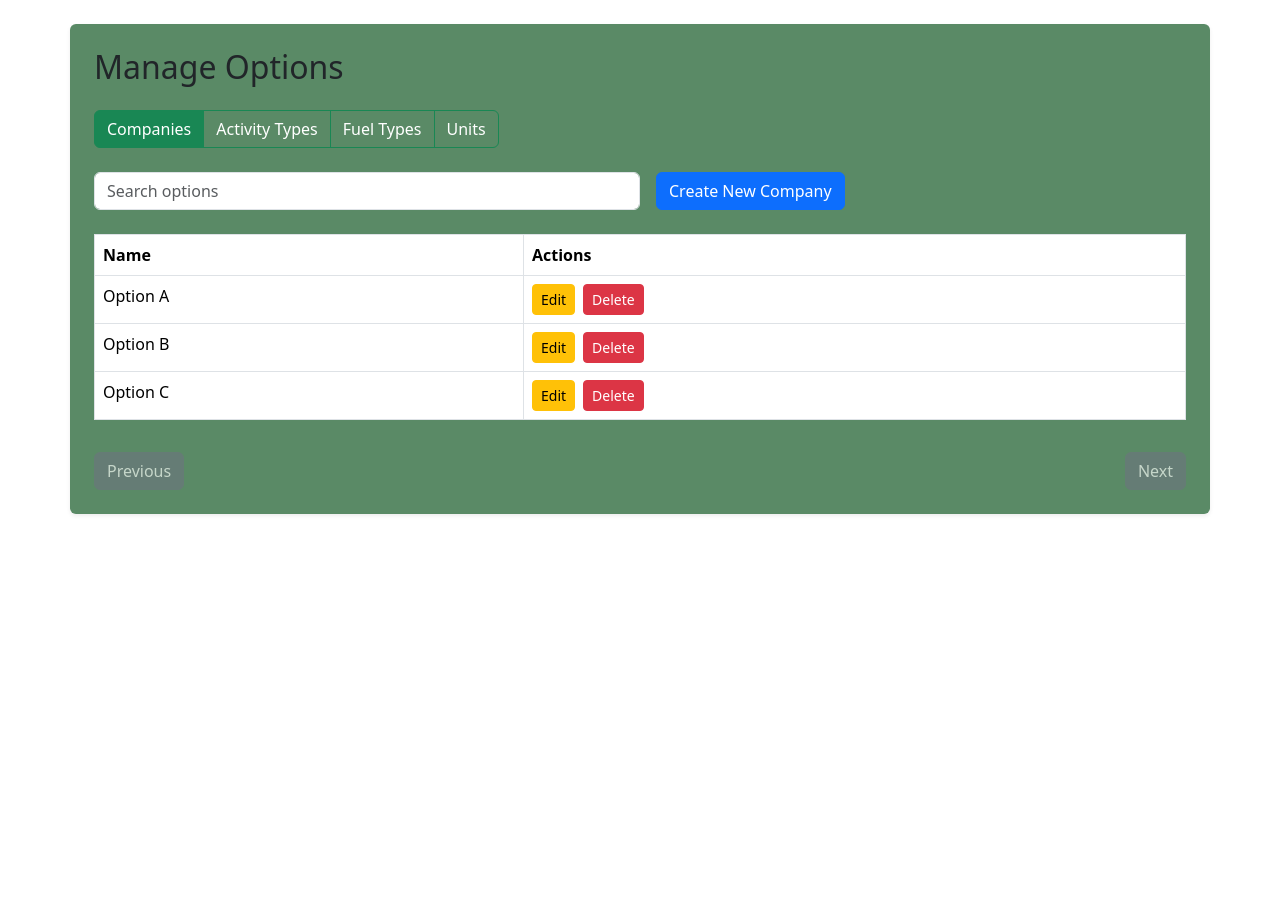
Test: ManageOptions Component › opens form to create a new option
Step 1. Click the button "Create New Company" → (750, 191), box [656, 172, 845, 210]
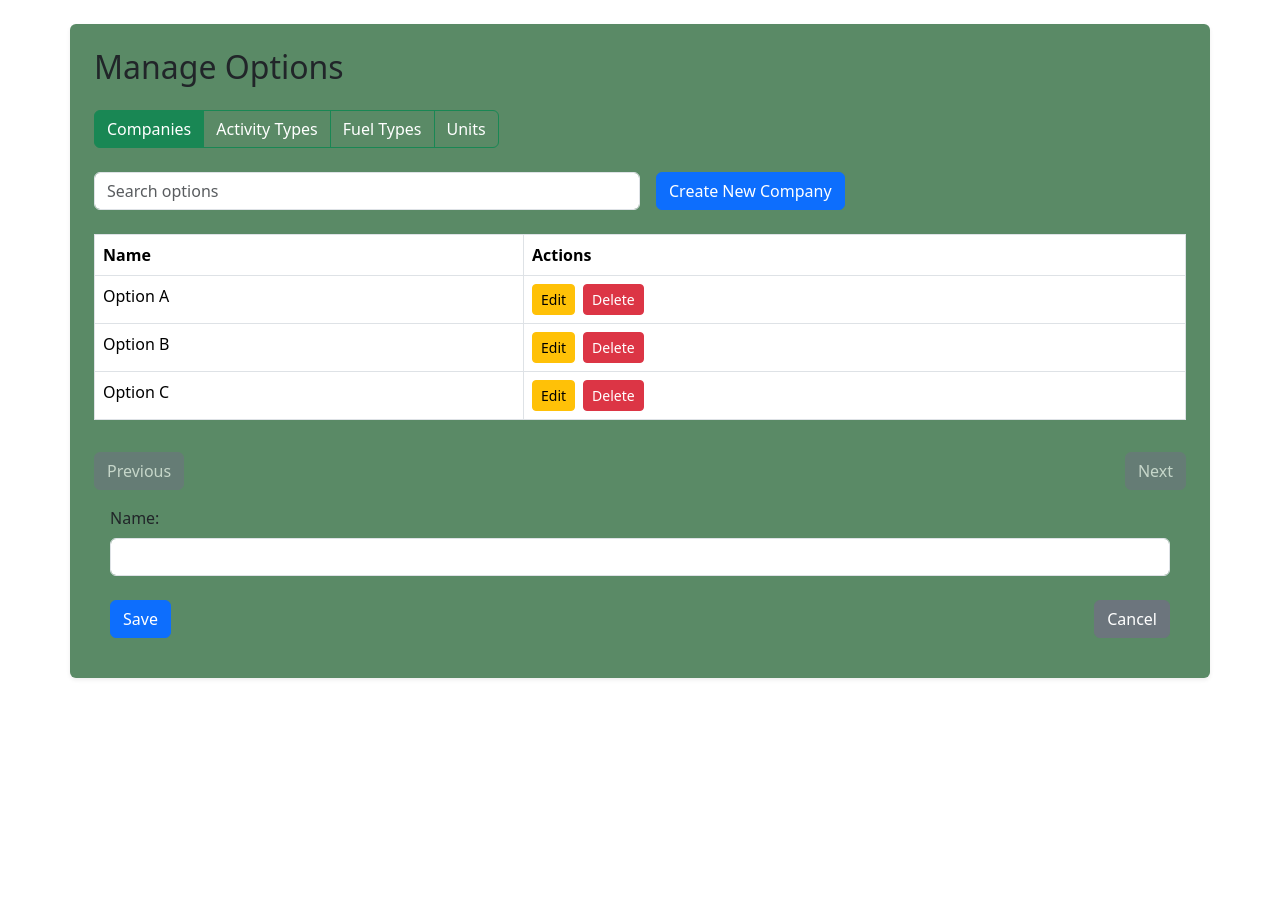
Expected: the field labelled "Name:" is shown, [110, 538, 1170, 576]
